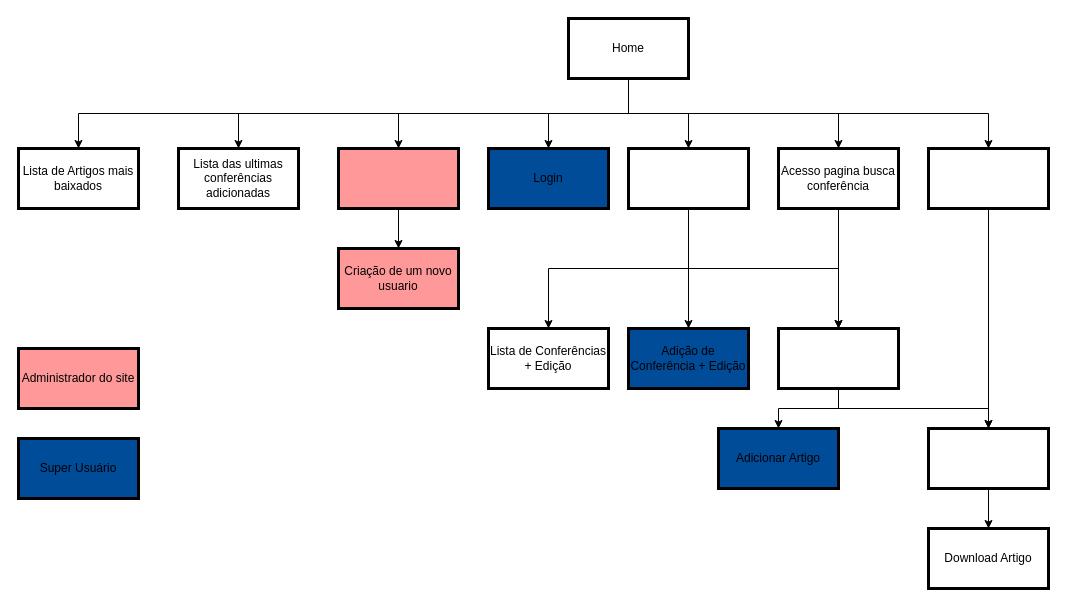
Image size: 1067x607. Some labels were removed from this diagram. Each missing label, with the box of its shape:
Acesso Adicionar Usuario: (336, 146, 460, 210)
Acesso pagina busca artigo: (926, 146, 1050, 210)
Acesso pagina Conferências: (626, 146, 750, 210)
Acesso pagina da conferência: (776, 326, 900, 390)
Lista de Artigos: (926, 426, 1050, 490)
